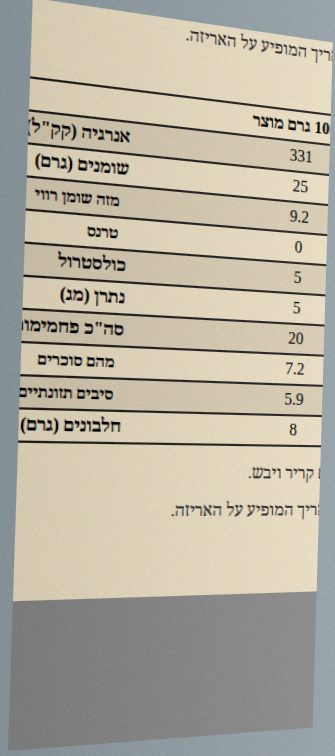carbs: (285, 326, 306, 352)
energy: (287, 143, 316, 171)
fat: (290, 174, 311, 201)
protein: (286, 418, 300, 443)
